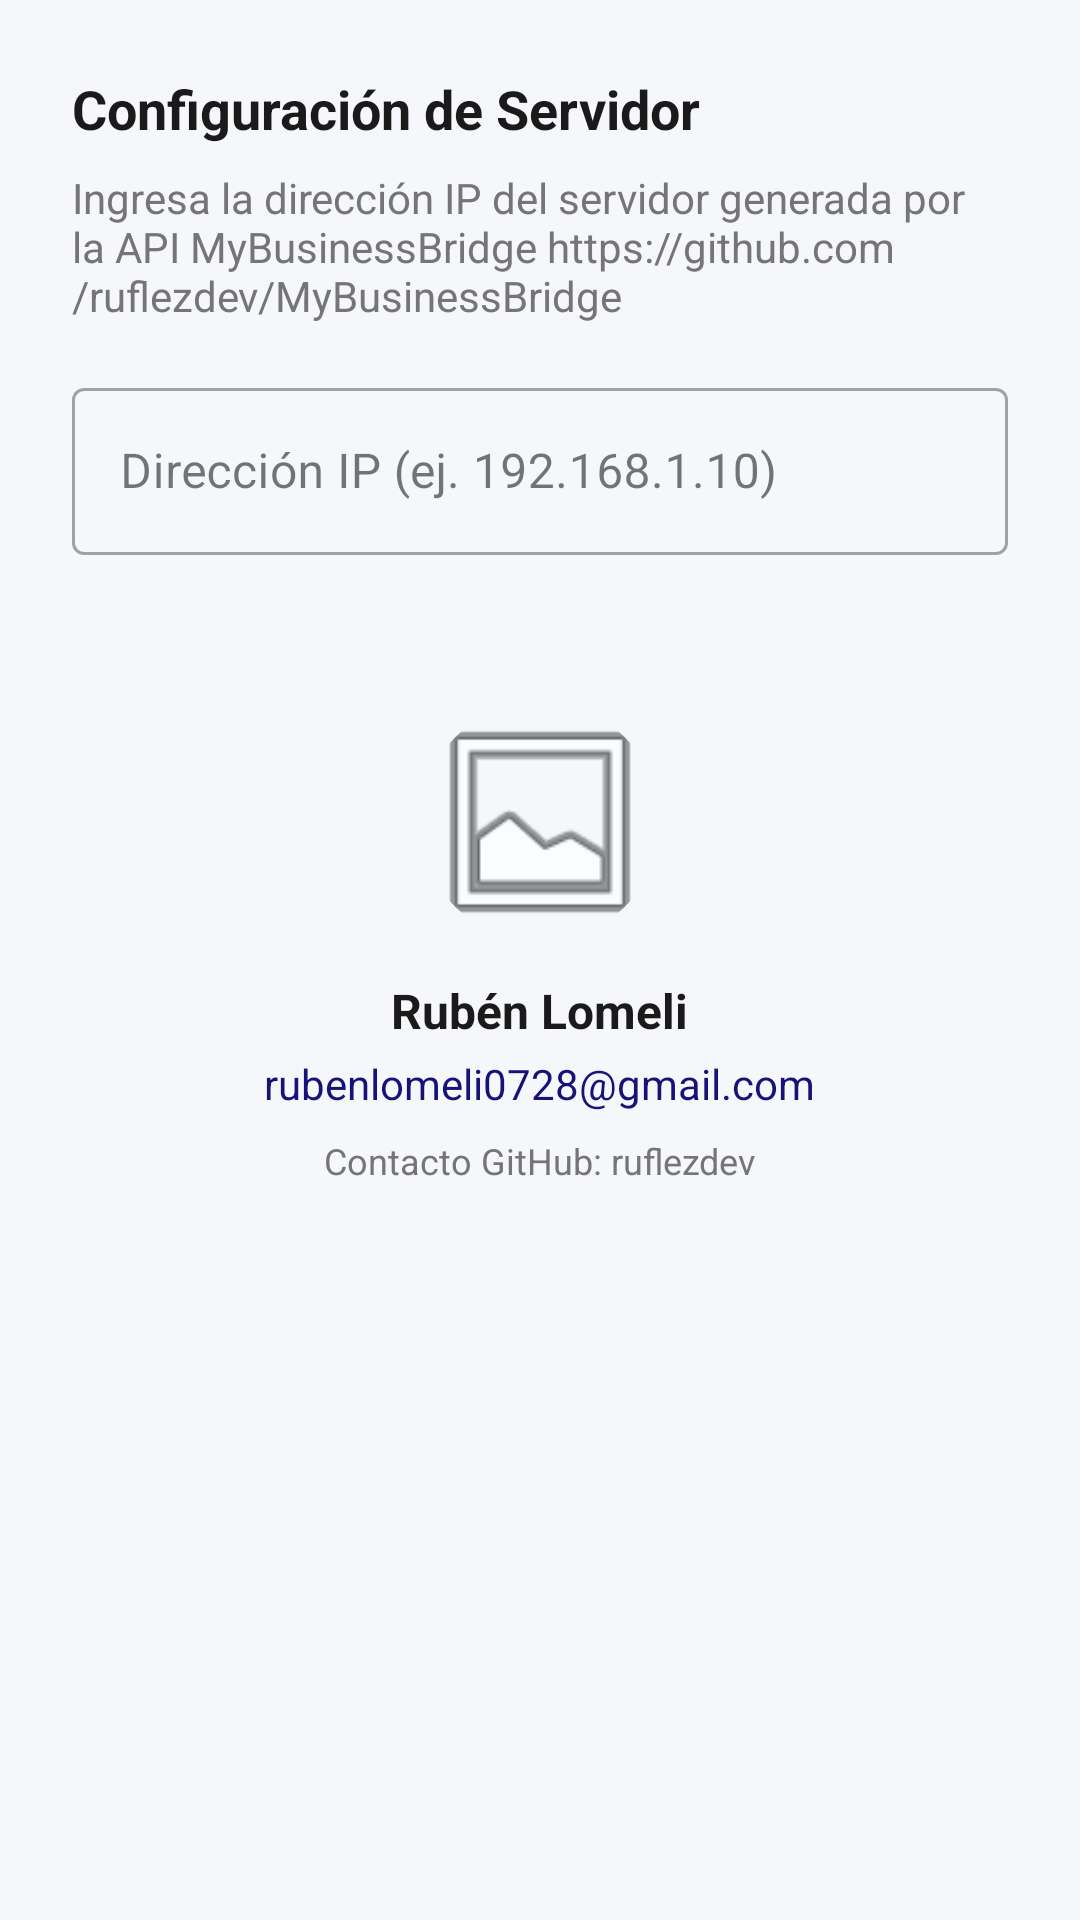

Screen size 1080px x 1920px. Icon name, then its box in pixels as bbox=(x1, y1, x2, y2):
gallery: bbox=(449, 731, 631, 913)
